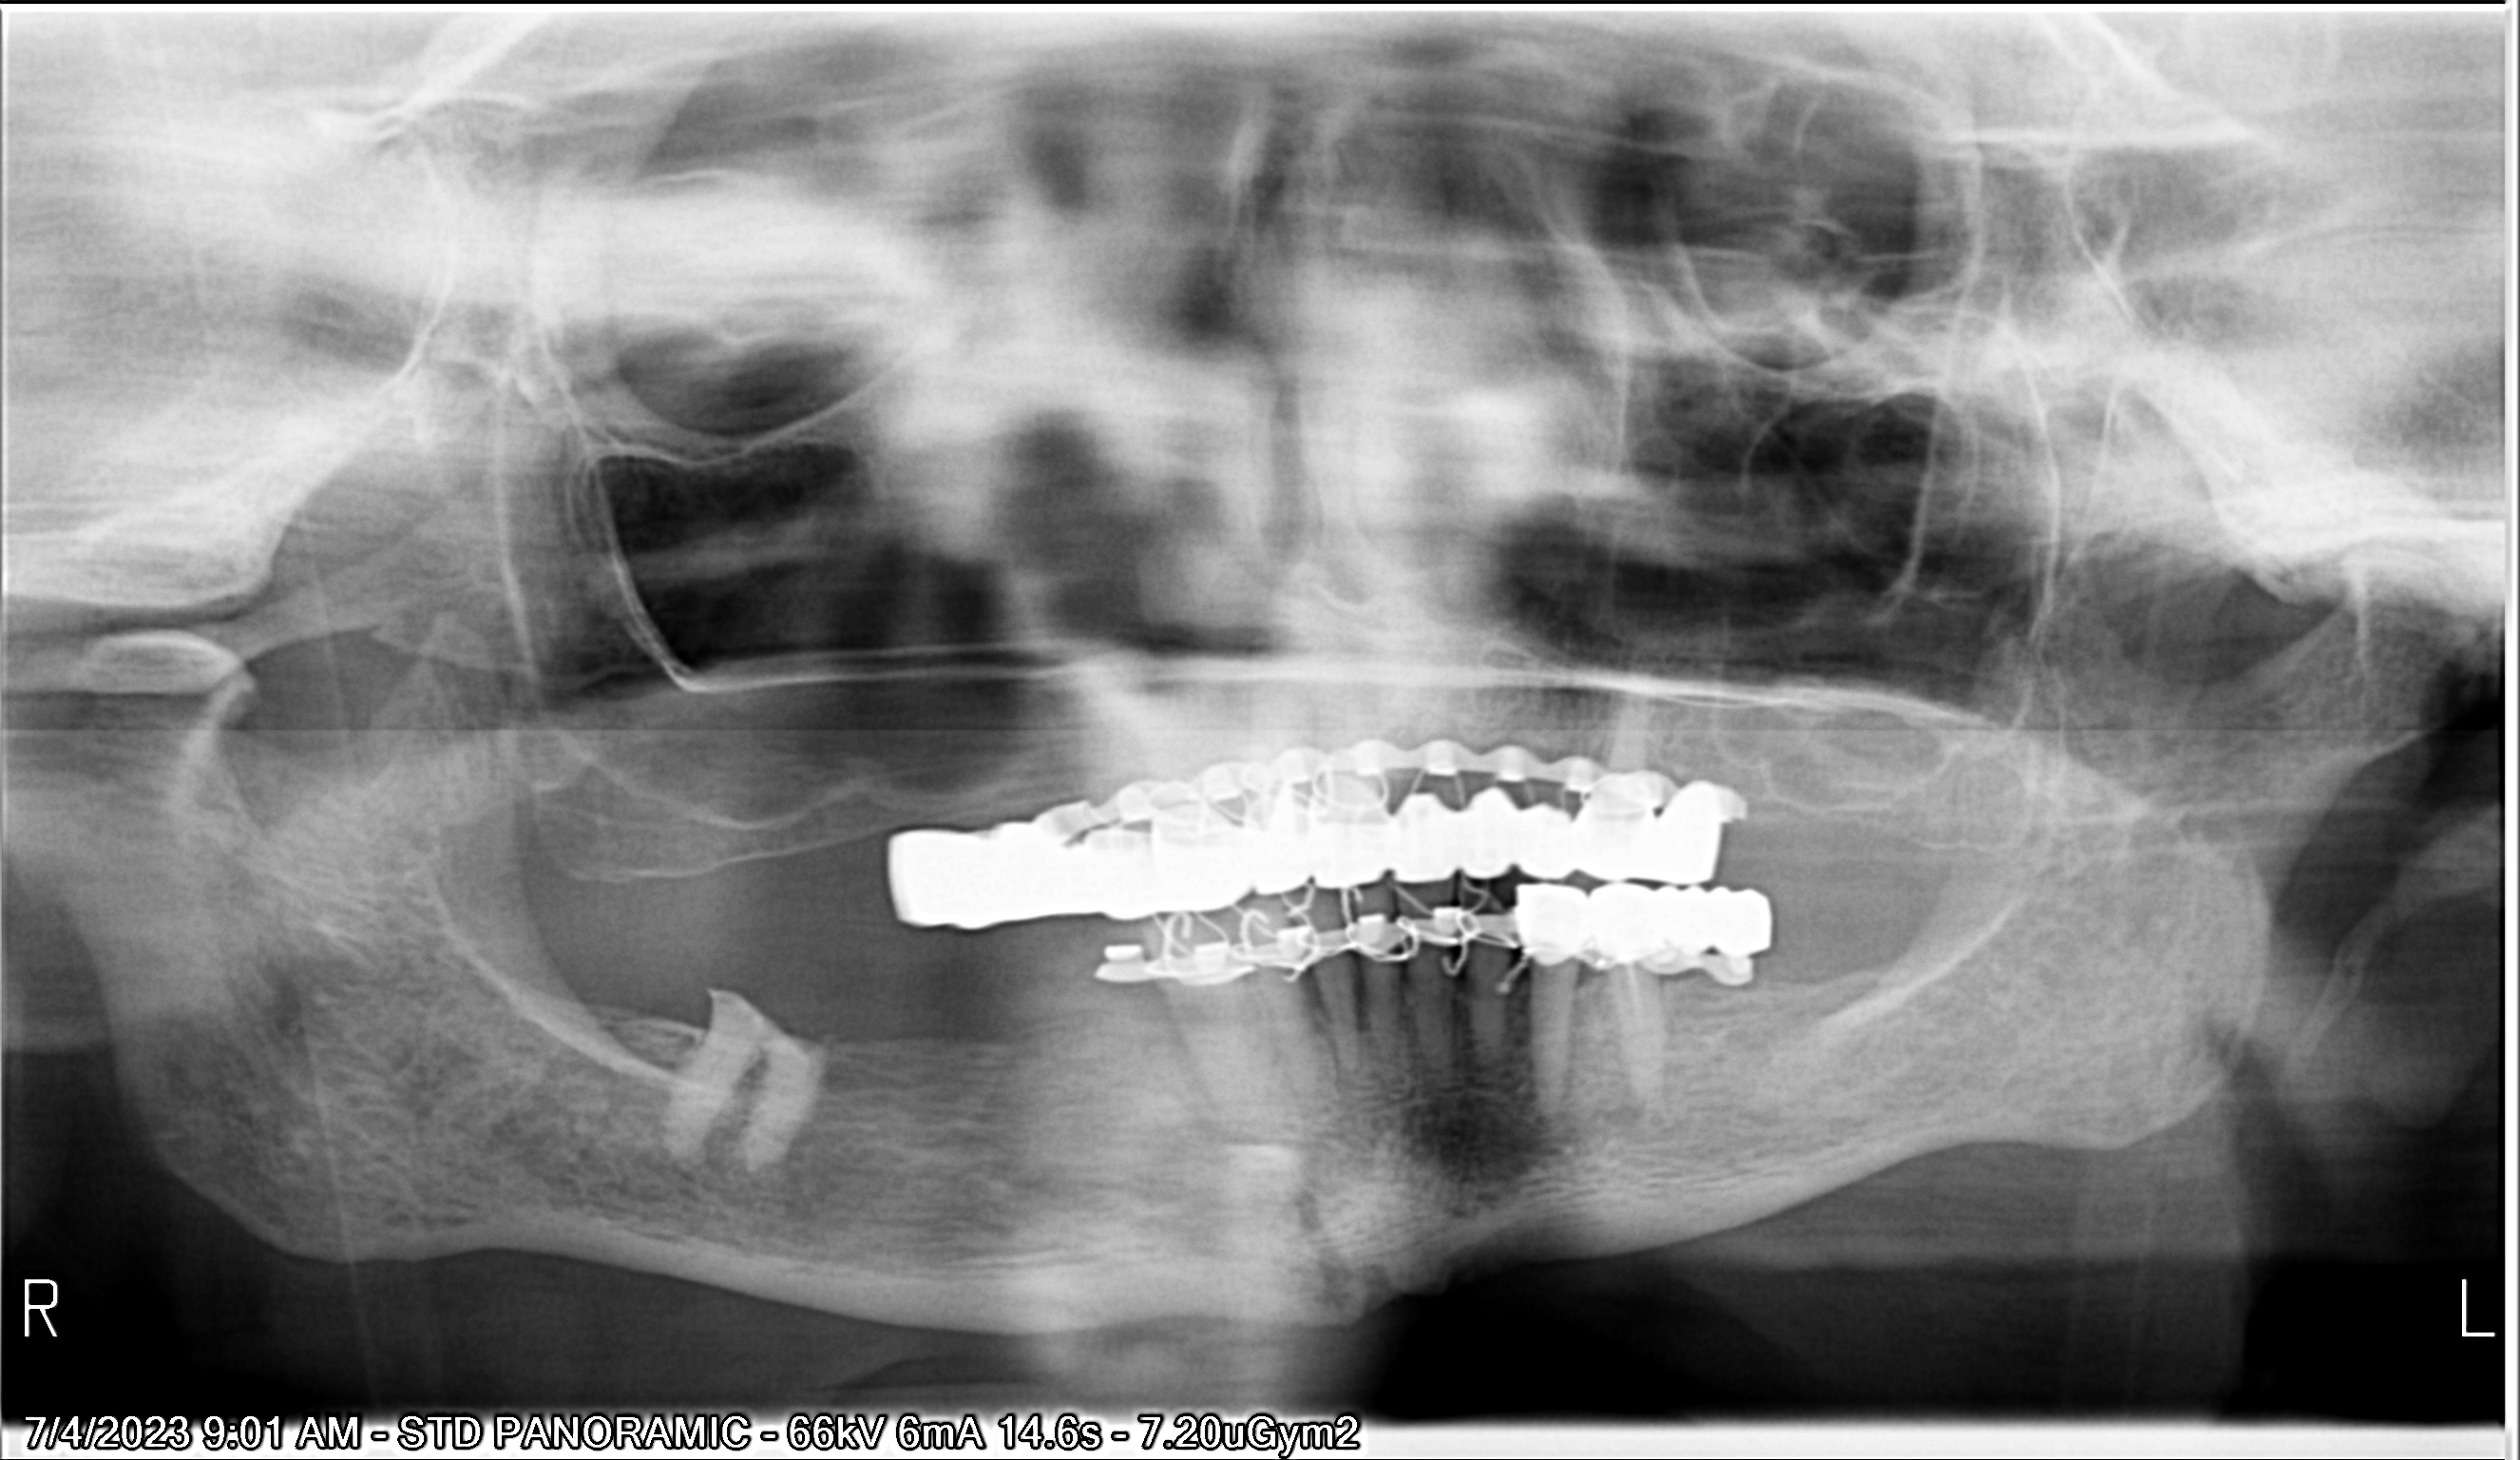PRR: (842, 798, 1747, 932), (957, 873, 1796, 992)
ROT: (625, 935, 842, 1198)
SRD: (1032, 709, 1709, 822)
